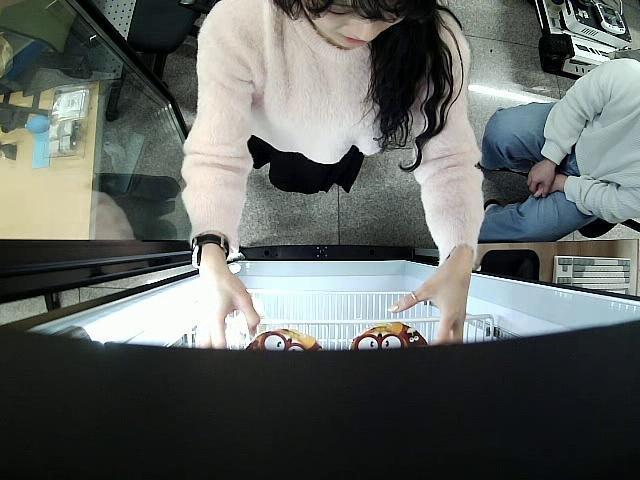05_nuguri_L: (354, 323, 429, 354), (244, 329, 324, 354)
